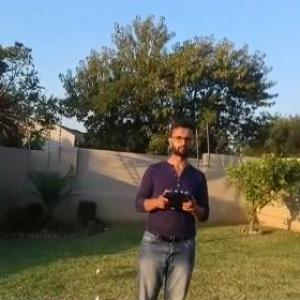follow: (128, 112, 216, 299)
